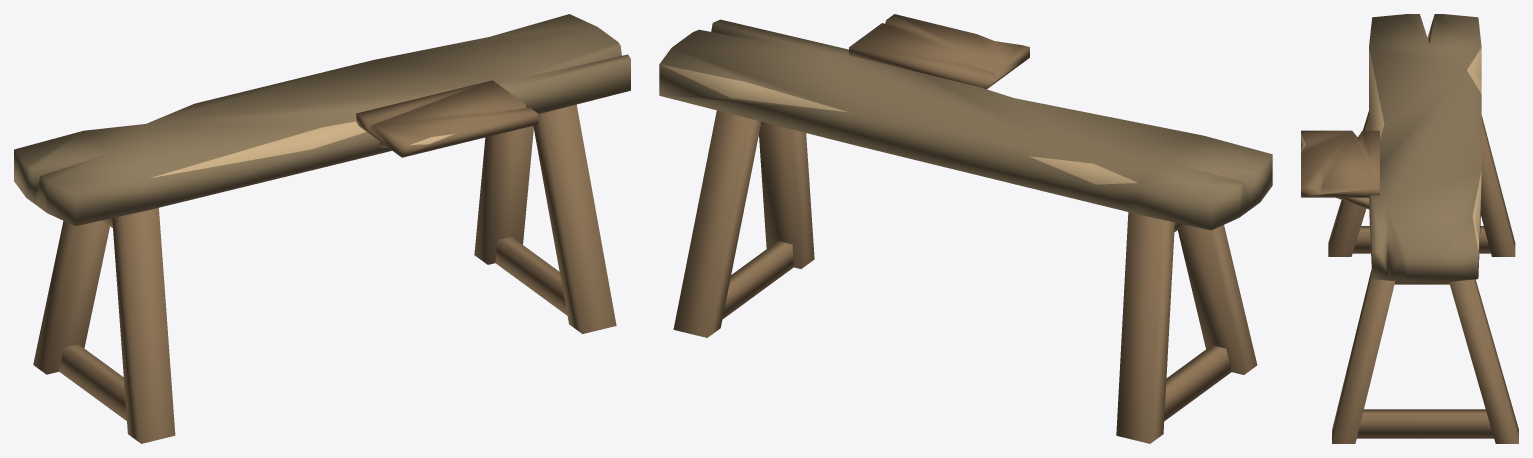
Rendered from rpgpp_ag_carpenter_workbench_01.fbx.
The picture shows the model from 3 angles, left to right: view 1: azimuth 30°, elevation 25°; view 2: azimuth 150°, elevation 25°; view 3: azimuth 270°, elevation 25°; orthographic projection. The views are drawn at different scales.
Visible parts, largest first — view 1: rpgpp_ag_carpenter_workbench_01; view 2: rpgpp_ag_carpenter_workbench_01; view 3: rpgpp_ag_carpenter_workbench_01.
Part boxes in pixels (left/top/right/bottom): rpgpp_ag_carpenter_workbench_01: left=14, top=14, right=630, bottom=443; rpgpp_ag_carpenter_workbench_01: left=659, top=14, right=1272, bottom=443; rpgpp_ag_carpenter_workbench_01: left=1301, top=14, right=1518, bottom=443.
Size of the model in its own units: 2.06 by 0.8588 by 0.7882.
